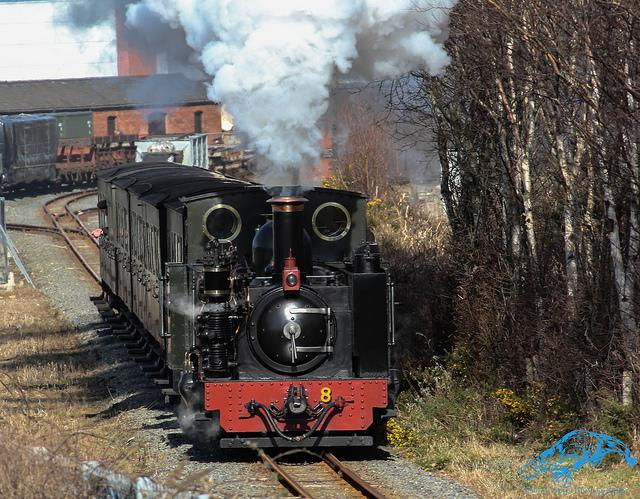Train: (98, 156, 392, 448), (0, 112, 147, 191)
